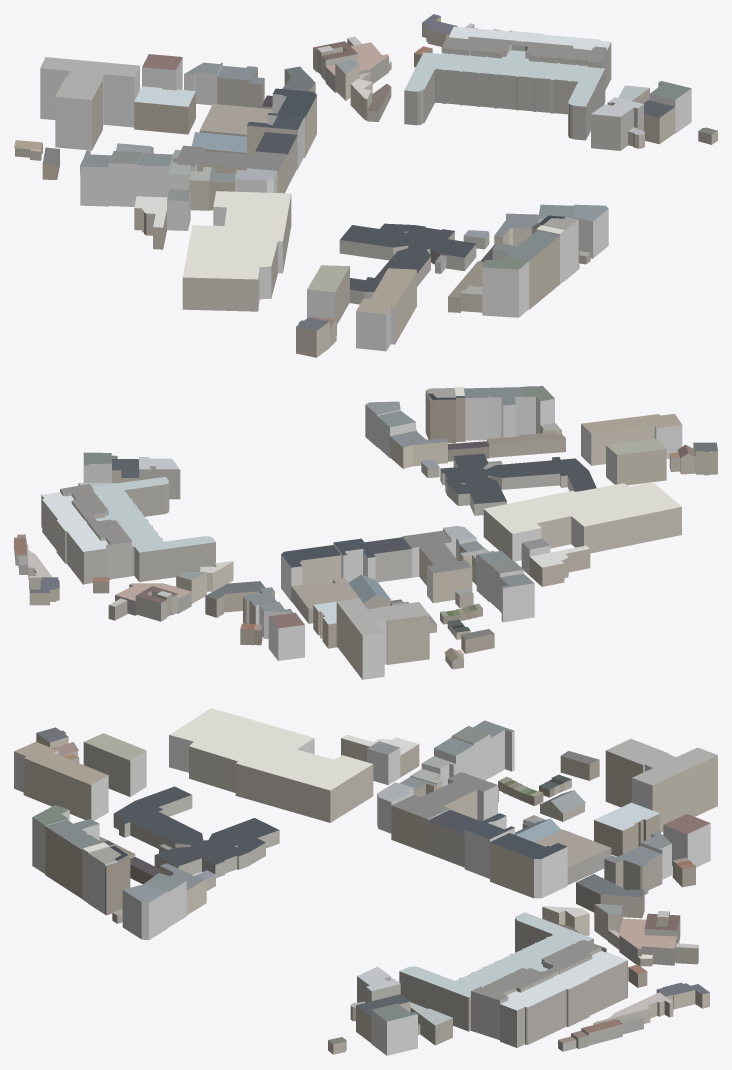
3 renders of one model, top to bottom at view 1: azimuth 30°, elevation 25°; view 2: azimuth 150°, elevation 25°; view 3: azimuth 270°, elevation 25°, orthographic. The views are drawn at different scales.
Visible parts, largest first — view 1: tuile; view 2: tuile; view 3: tuile.
Part boxes in pixels (box(x1,y1,x2,y2)): tuile: box(14, 14, 717, 357); tuile: box(14, 386, 717, 679); tuile: box(14, 708, 717, 1055).
Size of the model in its own units: 271 by 30.31 by 275.
